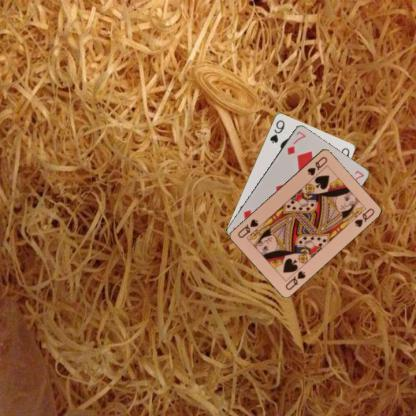7d: (284, 128, 307, 156)
9s: (267, 118, 285, 144)
Qs: (282, 268, 307, 292), (304, 154, 329, 176)
